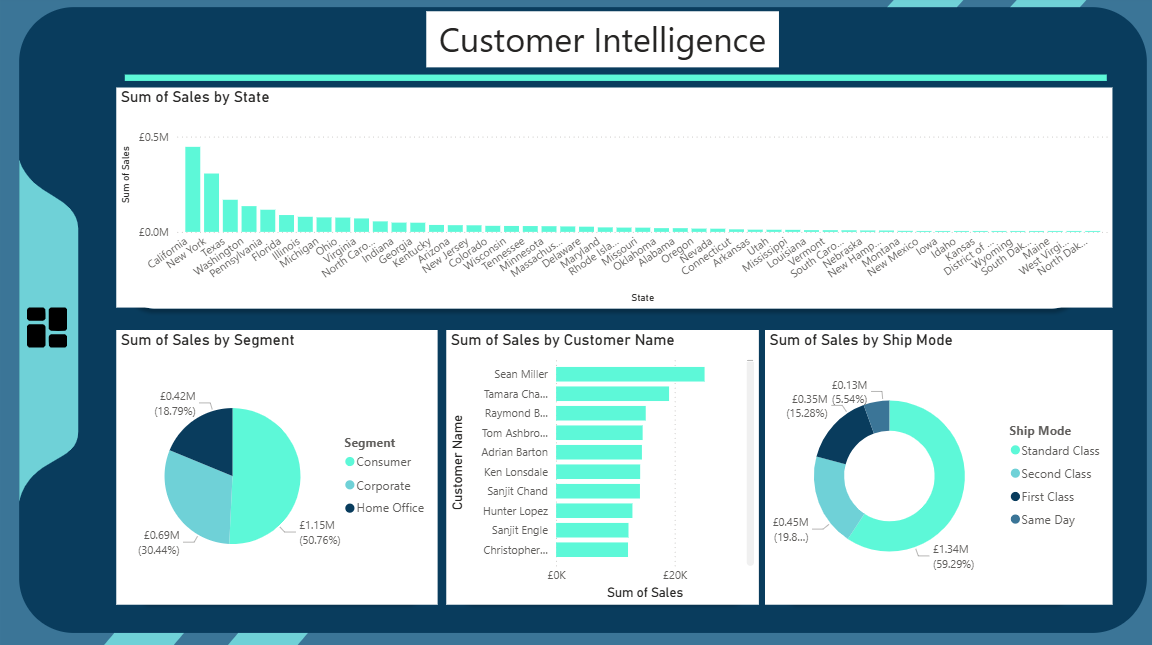

This screenshot's page, from the dashboard's own definition file:
{"tool":"powerbi","page":{"name":"Customer Intelligence","canvas":[1280,720],"ordinal":1},"visuals":[{"type":"clusteredColumnChart","fields":{"Y":["Sum(fact.Sales)"],"Category":["place.State"]},"box":[127.6,101.5,1093.7,241.5],"z":0},{"type":"pieChart","fields":{"Y":["Sum(fact.Sales)"],"Category":["Customer.Segment"]},"box":[127.6,367.8,352.7,301.9],"z":1000},{"type":"clusteredBarChart","fields":{"Y":["Sum(fact.Sales)"],"Category":["Customer.Customer Name"]},"box":[489.9,367.8,343.1,301.9],"z":2000},{"type":"donutChart","fields":{"Category":["fact.Ship Mode"],"Y":["Sum(fact.Sales)"]},"box":[839.8,367.8,381.5,301.9],"z":3000},{"type":"textbox","box":[467.9,17.8,387,61.7],"z":4000},{"type":"image","box":[23.3,343.1,56.3,43.9],"z":5000}]}

Visuals, with their boxes in screenshot pixels (x1, y1, x2, y2), scaled from the page's 1280x720 canvas onto the 1152x645 screenshot:
clusteredColumnChart - Sum(fact.Sales) x place.State: x1=115, y1=91, x2=1099, y2=307
pieChart - Sum(fact.Sales) x Customer.Segment: x1=115, y1=329, x2=432, y2=600
clusteredBarChart - Sum(fact.Sales) x Customer.Customer Name: x1=441, y1=329, x2=750, y2=600
donutChart - fact.Ship Mode x Sum(fact.Sales): x1=756, y1=329, x2=1099, y2=600
textbox: x1=421, y1=16, x2=769, y2=71
image: x1=21, y1=307, x2=72, y2=347
